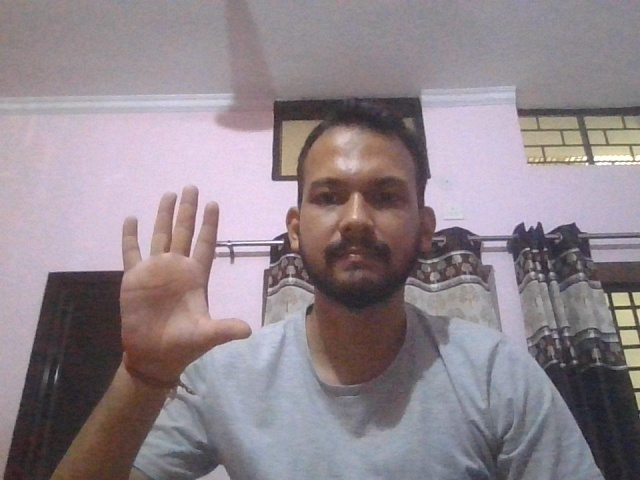hello: (105, 184, 253, 388)
